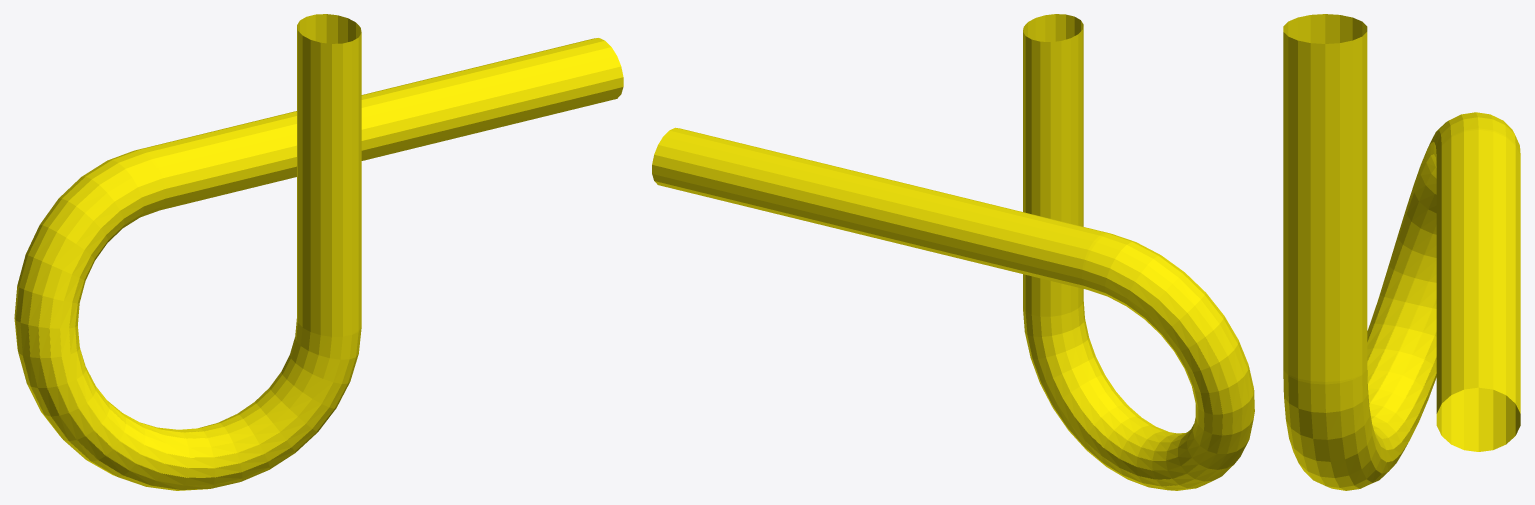
File: alpha_env-1.2.dae
The picture shows the model from 3 angles, left to right: view 1: azimuth 30°, elevation 25°; view 2: azimuth 150°, elevation 25°; view 3: azimuth 270°, elevation 25°; orthographic projection. The views are drawn at different scales.
Visible parts, largest first — view 1: instance_0; view 2: instance_0; view 3: instance_0.
Boxes of the visible parts, x1,y1,x2,y2 form: instance_0: (14,14,623,490); instance_0: (652,14,1254,490); instance_0: (1283,14,1520,490).
Bounding box in the file's own units: 239 × 70.95 × 168.
